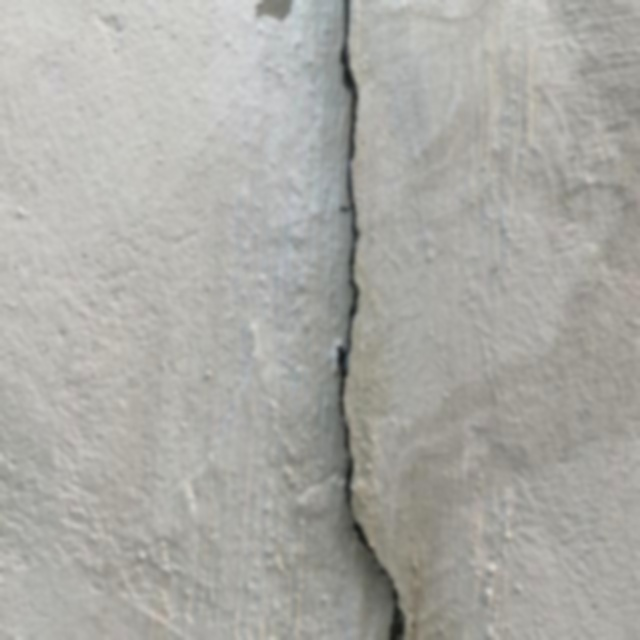SurfaceCrack: (278, 1, 448, 640)
